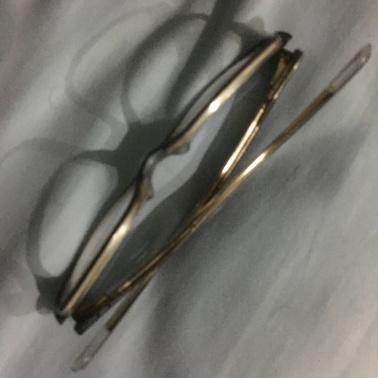glasses: (75, 49, 302, 310)
